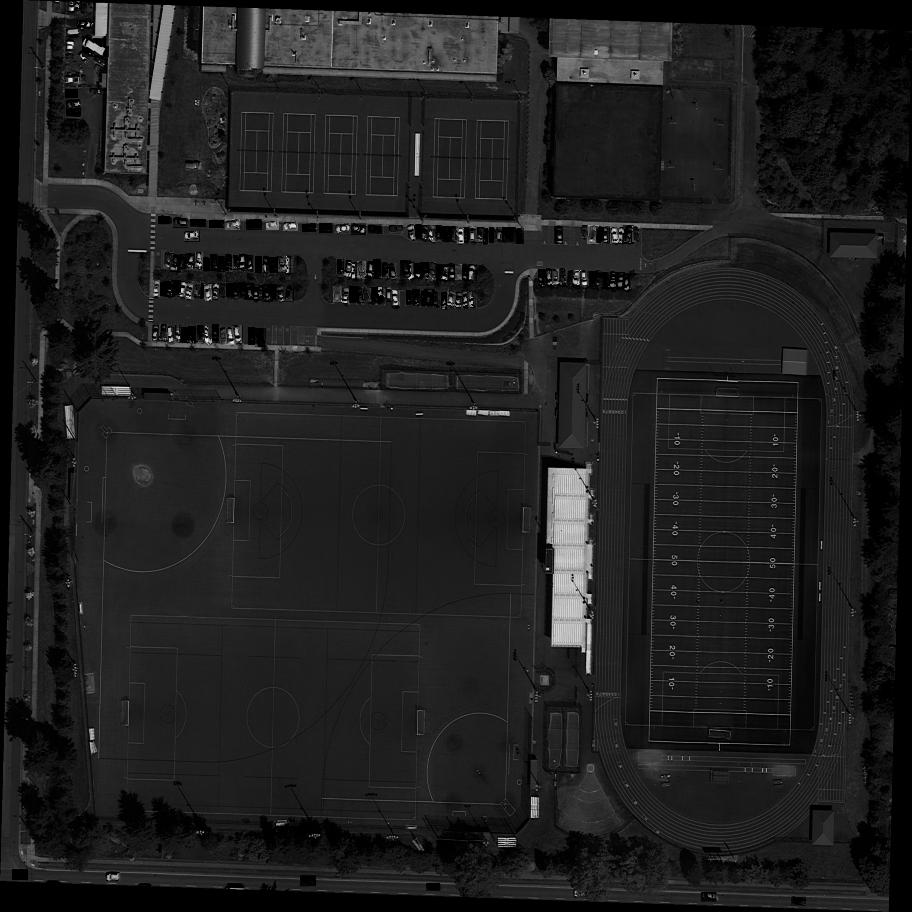small-vehicle: (81, 37, 109, 58), (623, 225, 636, 245), (586, 225, 599, 244), (246, 219, 263, 232), (177, 282, 190, 299), (255, 328, 266, 348), (276, 256, 288, 274), (343, 261, 355, 279), (358, 261, 369, 280), (301, 875, 317, 888), (283, 285, 295, 302), (373, 259, 383, 279), (369, 288, 380, 306), (347, 286, 358, 304), (170, 255, 181, 273), (233, 326, 244, 344), (276, 285, 287, 303), (610, 227, 621, 245), (467, 264, 478, 282), (400, 261, 411, 279), (12, 869, 28, 881), (173, 217, 189, 229), (351, 224, 367, 236), (226, 327, 236, 346), (225, 220, 242, 231), (448, 226, 459, 243), (163, 252, 174, 269), (263, 284, 273, 302), (425, 289, 435, 307), (441, 264, 451, 282), (181, 327, 192, 343), (185, 232, 201, 243), (335, 224, 351, 235), (475, 228, 486, 244), (165, 282, 176, 298), (421, 262, 432, 278), (555, 226, 564, 245), (186, 282, 195, 301), (566, 270, 575, 289), (428, 263, 437, 282), (790, 897, 807, 907), (421, 226, 431, 243), (407, 224, 417, 241), (514, 228, 524, 245), (545, 269, 555, 286), (186, 253, 196, 270), (245, 283, 255, 300), (391, 291, 401, 308), (454, 264, 464, 281), (205, 284, 214, 302), (188, 326, 197, 344), (454, 291, 463, 309), (617, 272, 626, 290), (618, 227, 627, 245), (596, 226, 605, 244), (257, 285, 267, 301), (442, 227, 452, 243), (238, 283, 248, 299), (172, 281, 182, 297), (269, 257, 279, 273), (334, 286, 343, 303), (502, 227, 511, 244), (232, 283, 241, 300), (209, 254, 218, 271), (159, 324, 168, 341), (573, 270, 582, 287), (461, 264, 470, 281), (269, 285, 279, 300), (413, 224, 423, 239), (284, 222, 299, 232), (64, 89, 79, 99), (362, 288, 372, 303), (701, 893, 717, 902), (66, 100, 82, 109), (356, 287, 365, 303), (212, 283, 221, 299), (193, 282, 202, 298), (448, 290, 456, 308), (580, 271, 589, 287), (389, 263, 398, 279), (415, 264, 424, 280), (369, 224, 383, 234), (319, 224, 333, 234), (255, 256, 263, 273), (225, 255, 233, 272), (185, 162, 202, 170), (552, 269, 560, 286), (609, 272, 617, 289), (623, 274, 631, 291), (602, 273, 610, 290), (413, 289, 421, 306), (434, 264, 442, 281), (232, 255, 241, 270), (429, 226, 438, 241), (77, 20, 92, 29), (195, 253, 204, 268), (218, 256, 226, 272), (632, 227, 640, 243), (432, 292, 441, 306), (219, 283, 228, 297), (106, 872, 120, 881), (249, 327, 256, 345), (66, 107, 81, 115), (209, 220, 224, 228), (180, 255, 188, 270), (595, 272, 603, 287), (153, 281, 160, 298), (168, 327, 175, 344), (367, 261, 374, 278), (267, 222, 280, 231), (158, 216, 171, 225), (426, 883, 440, 891), (457, 228, 464, 244), (190, 219, 206, 226), (247, 255, 254, 271), (152, 325, 159, 341), (343, 287, 349, 305), (338, 259, 345, 274), (197, 326, 204, 341), (382, 263, 389, 278), (66, 30, 79, 38), (408, 263, 414, 280), (389, 226, 403, 233), (303, 224, 315, 232), (253, 284, 259, 300), (221, 329, 227, 345), (560, 269, 566, 284), (469, 290, 475, 305), (213, 325, 219, 340), (175, 325, 181, 340), (589, 272, 595, 287), (226, 283, 232, 297), (240, 255, 246, 269), (449, 265, 455, 279), (200, 283, 205, 299), (539, 269, 544, 285), (463, 291, 468, 307), (604, 227, 609, 243), (204, 258, 210, 271), (508, 228, 514, 241), (386, 288, 392, 301), (421, 291, 426, 306), (470, 227, 475, 242), (464, 227, 469, 242), (442, 293, 447, 308), (582, 226, 588, 238), (161, 282, 166, 296), (437, 225, 442, 239), (286, 257, 290, 274), (497, 227, 502, 240), (264, 257, 268, 273), (483, 229, 487, 244), (352, 264, 356, 279), (379, 287, 383, 302), (407, 290, 411, 304), (206, 326, 209, 343), (75, 2, 81, 9), (490, 228, 493, 242)
